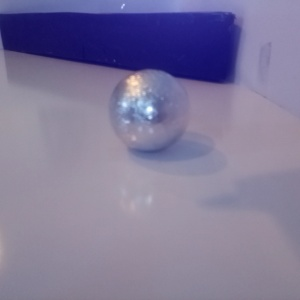zone: (20, 9, 300, 103)
